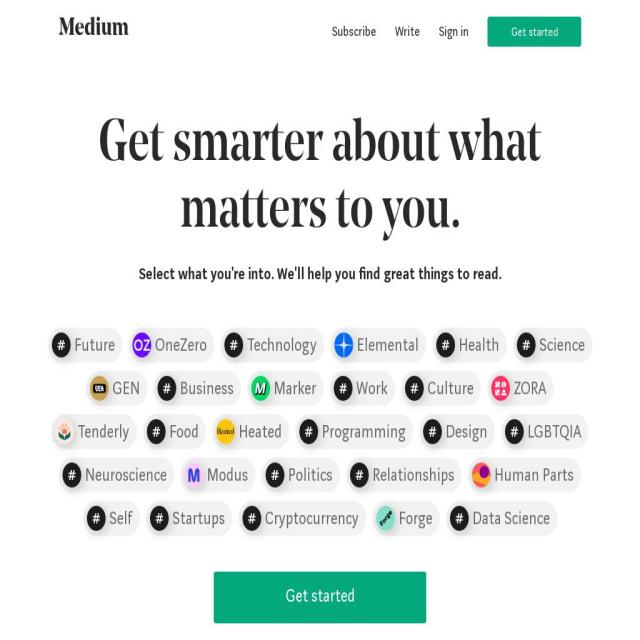button: (214, 572, 426, 623), (488, 16, 582, 46)
heading: (40, 112, 600, 246), (40, 262, 600, 286), (332, 22, 376, 40), (439, 22, 469, 40), (244, 636, 360, 640), (395, 22, 420, 40), (363, 636, 395, 640)
image: (59, 17, 129, 35), (51, 332, 71, 358), (516, 332, 536, 358), (62, 462, 82, 488), (146, 419, 166, 444), (86, 506, 106, 531), (149, 506, 169, 531), (449, 506, 469, 531), (241, 549, 261, 574), (406, 549, 426, 574), (132, 332, 151, 358), (224, 332, 243, 358), (334, 332, 353, 358), (436, 332, 455, 358), (184, 462, 203, 488), (350, 462, 369, 488), (472, 462, 491, 488), (90, 376, 109, 401), (251, 376, 270, 401), (333, 376, 352, 401), (405, 376, 424, 401), (491, 376, 510, 401), (55, 419, 74, 444), (216, 419, 235, 444), (423, 419, 442, 444), (505, 419, 524, 444), (242, 506, 261, 531), (376, 506, 395, 531), (127, 549, 146, 574), (266, 462, 284, 488), (158, 376, 176, 401), (300, 419, 318, 444)
text: (214, 572, 426, 623), (264, 548, 389, 575), (488, 16, 582, 46), (264, 505, 359, 532), (322, 418, 406, 445), (429, 548, 509, 575), (85, 462, 167, 488), (372, 462, 454, 488), (472, 505, 550, 532), (494, 462, 574, 488), (150, 548, 224, 575), (246, 332, 317, 358), (356, 332, 419, 358), (180, 375, 234, 402), (528, 418, 582, 445), (172, 505, 225, 532), (78, 418, 130, 445), (154, 332, 207, 358), (428, 375, 473, 402), (539, 332, 585, 358), (288, 462, 333, 488), (239, 418, 282, 445), (274, 375, 316, 402), (446, 418, 488, 445), (74, 332, 115, 358), (458, 332, 499, 358), (207, 462, 248, 488), (398, 505, 433, 532), (514, 375, 546, 402), (357, 375, 388, 402), (169, 418, 199, 445), (112, 375, 140, 402), (109, 505, 132, 532)
